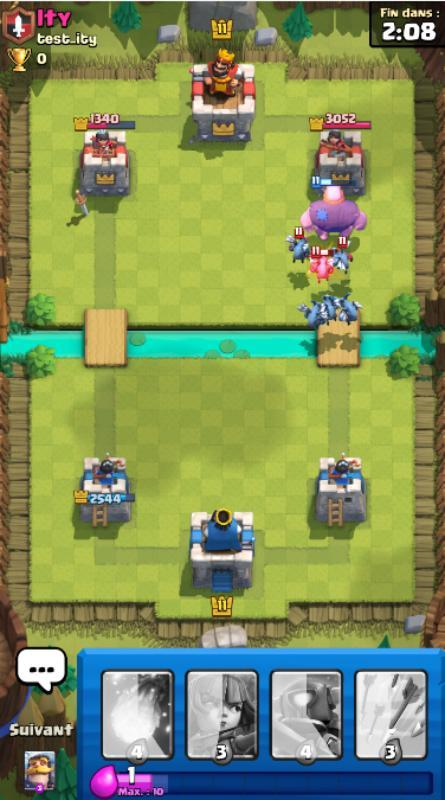gargouille: (308, 246, 335, 283), (284, 227, 310, 264), (335, 292, 363, 326), (331, 236, 354, 276), (298, 302, 328, 328), (315, 293, 339, 321)
geant: (299, 175, 368, 244)
